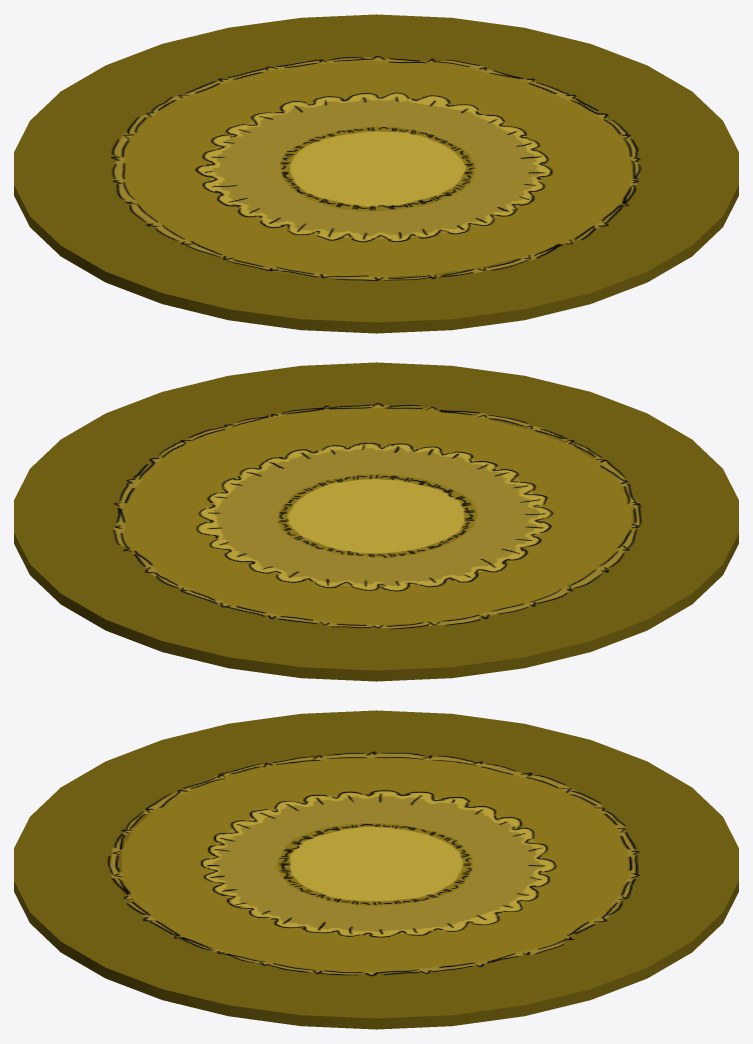
Rendered from Prop_RoundMap_01.fbx.
3 renders of one model, top to bottom at view 1: azimuth 30°, elevation 25°; view 2: azimuth 150°, elevation 25°; view 3: azimuth 270°, elevation 25°, orthographic.
Parts seen in each view (by area): view 1: Prop_RoundMap_01; view 2: Prop_RoundMap_01; view 3: Prop_RoundMap_01.
Part boxes in pixels (bbox=[...]): Prop_RoundMap_01: bbox=[14, 14, 738, 333]; Prop_RoundMap_01: bbox=[14, 362, 738, 681]; Prop_RoundMap_01: bbox=[14, 710, 738, 1029].
Bounding box in the file's own units: 1472 × 24.48 × 1464.
